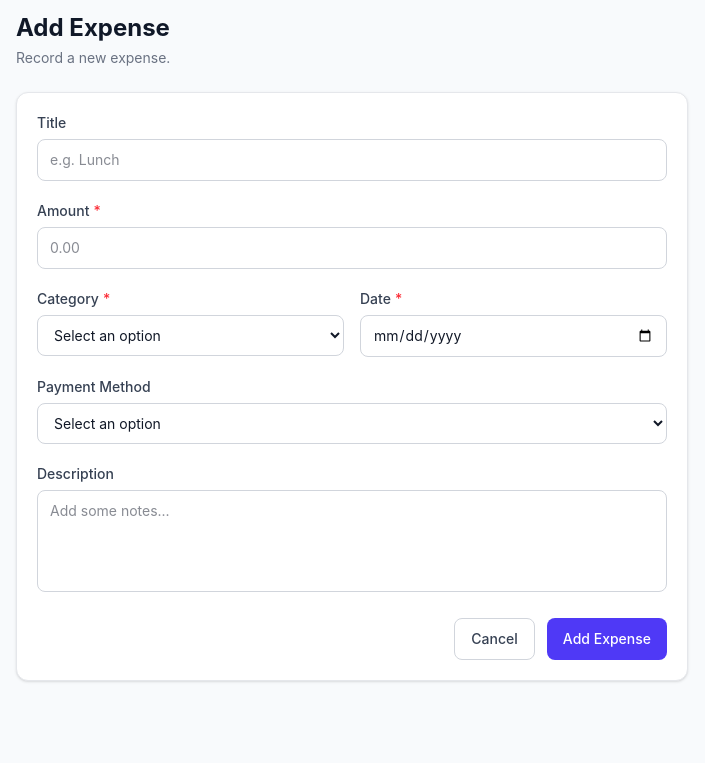
Scenario: AddExpense › shows the backend's validation error and stays on the form
Type "Lunch" into the field labelled "Title" at {"x": 352, "y": 160}, box [37, 139, 667, 181]
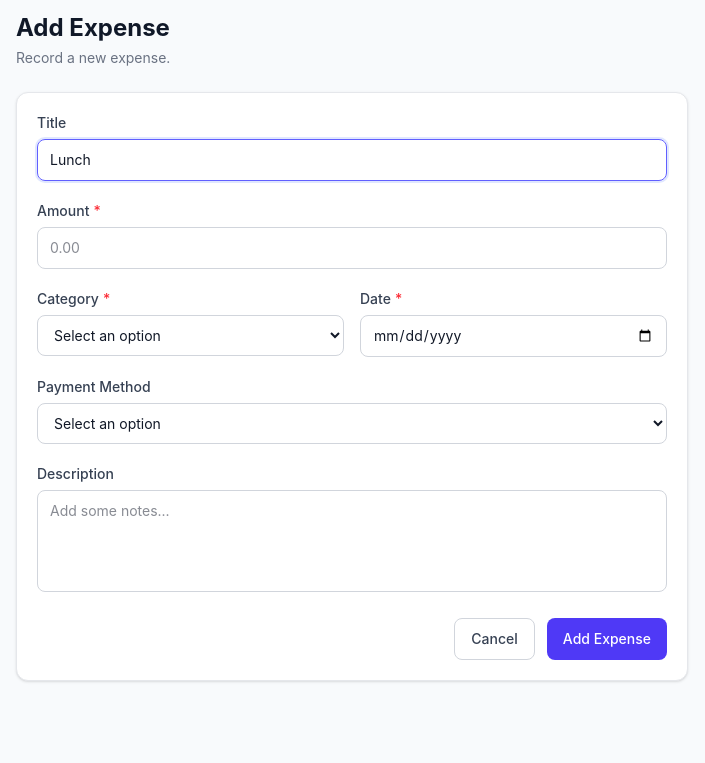
Type "450" into the number field labelled "Amount*" at {"x": 352, "y": 248}, box [37, 227, 667, 269]
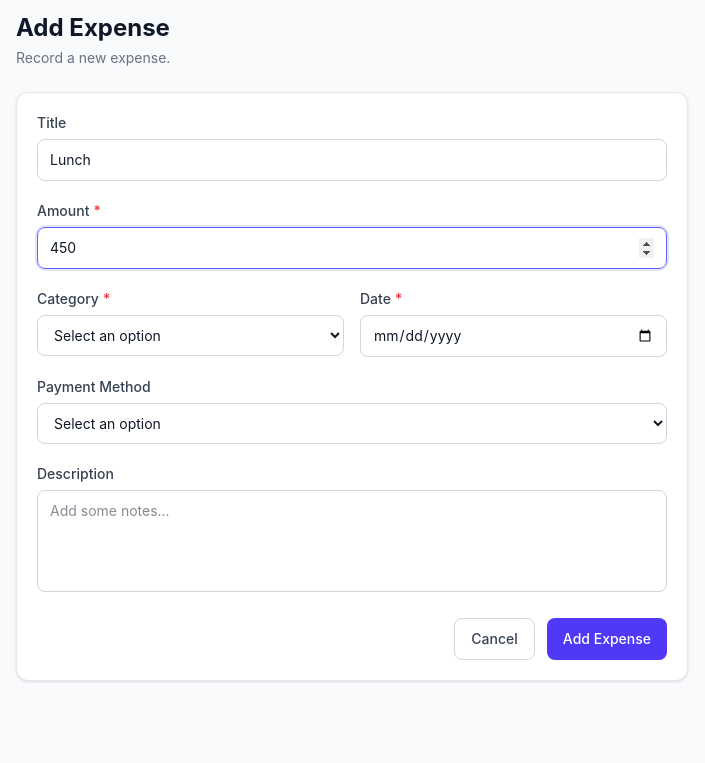
Select "Food" in the dropdown labelled "Category*" at {"x": 190, "y": 336}, box [37, 315, 344, 356]
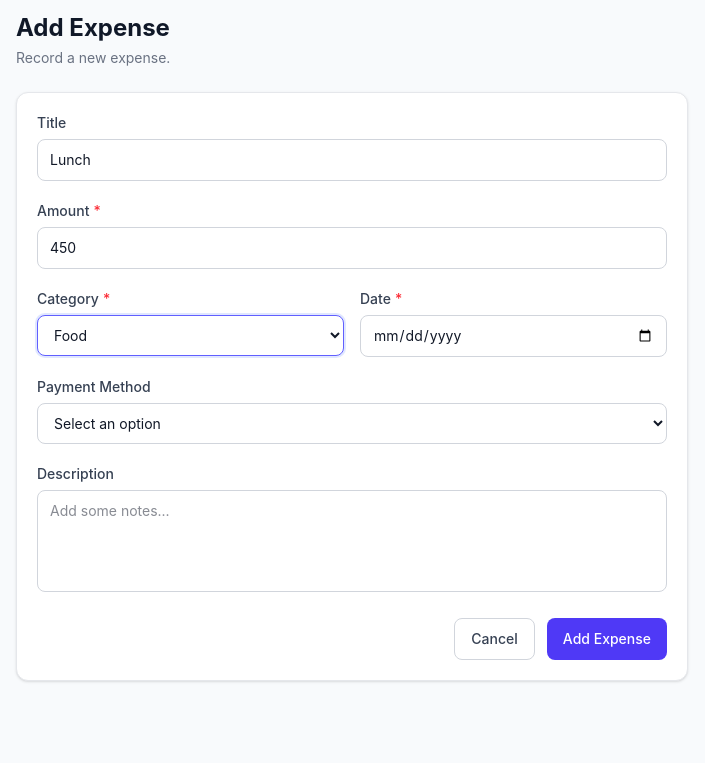
Type "2026-09-02" into the date field labelled "Date*" at {"x": 514, "y": 336}, box [360, 315, 667, 357]
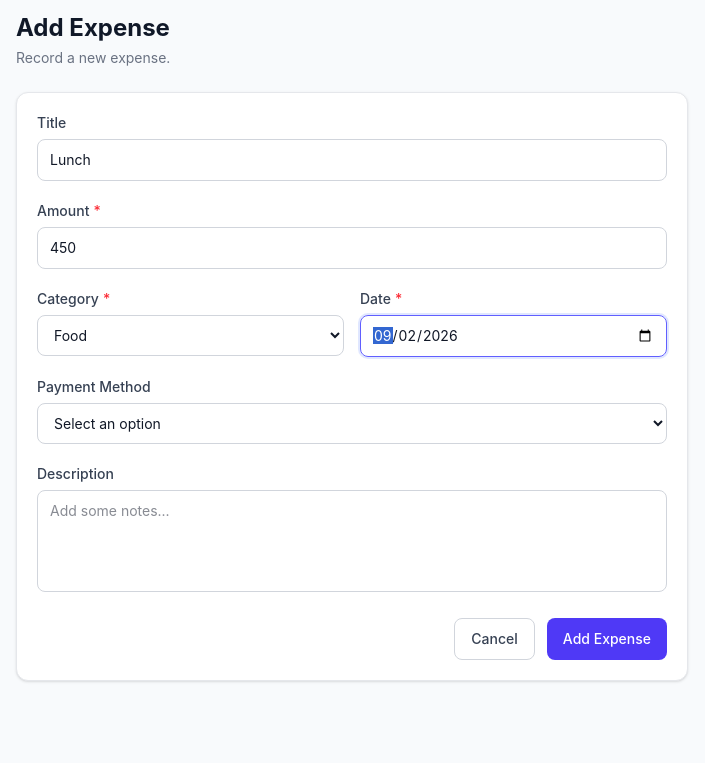
Click the button "Add Expense" at {"x": 607, "y": 639}, box [547, 618, 667, 660]
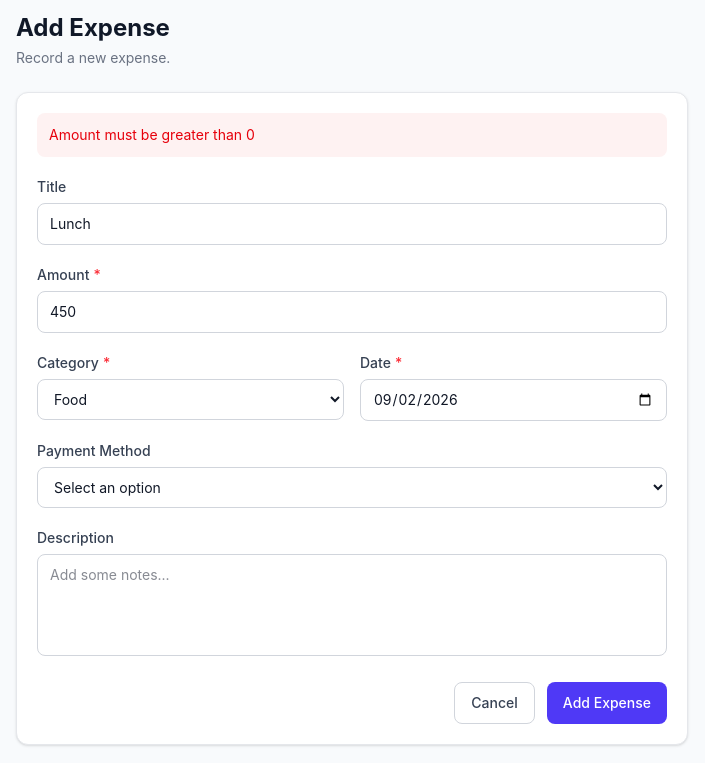
Now the text "Amount must be greater than 0" is shown, box [37, 113, 667, 157]
